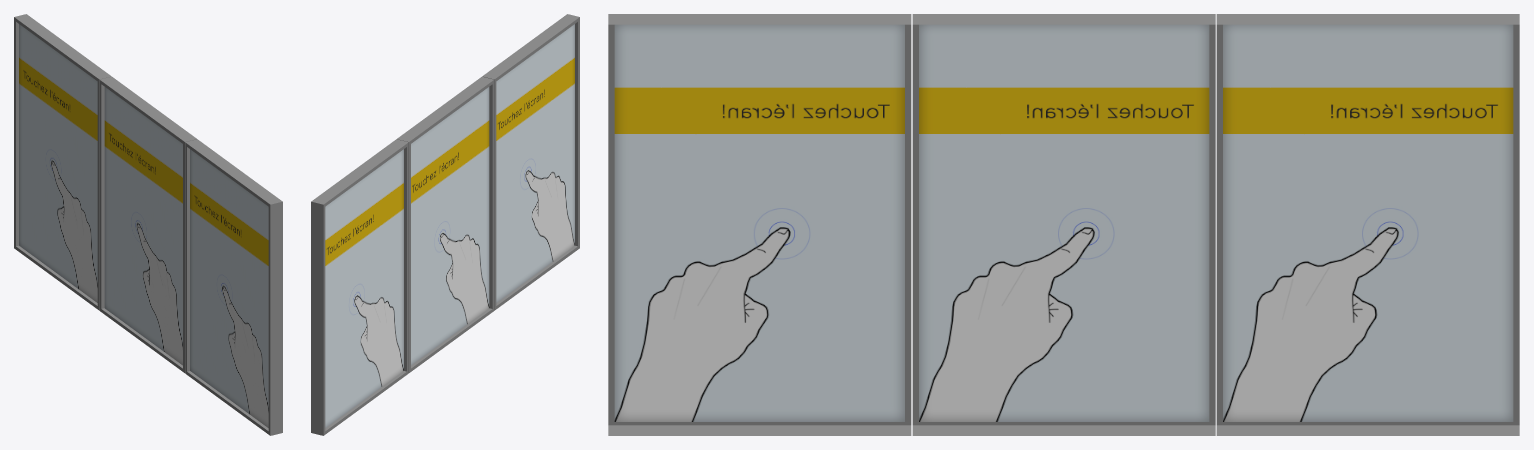
Rendered from tactile_wall.FBX.
The picture shows the model from 3 angles, left to right: view 1: azimuth 30°, elevation 25°; view 2: azimuth 150°, elevation 25°; view 3: azimuth 270°, elevation 25°; orthographic projection. The views are drawn at different scales.
Visible parts, largest first — view 1: mur_interactif; view 2: mur_interactif; view 3: mur_interactif.
Boxes of the visible parts, <box> form: mur_interactif: <box>14,14,282,435</box>; mur_interactif: <box>311,14,579,435</box>; mur_interactif: <box>608,14,1519,435</box>.
Size of the model in its own units: 0.08 by 1.42 by 2.85.
